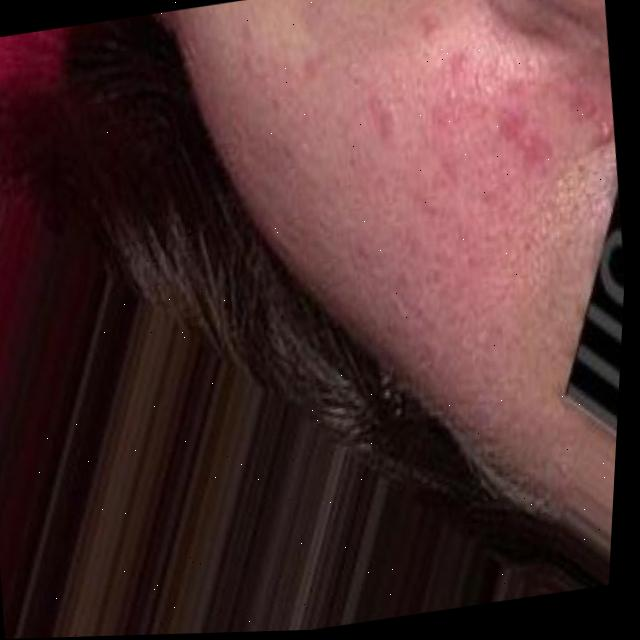Rosacea: (220, 3, 639, 416)
